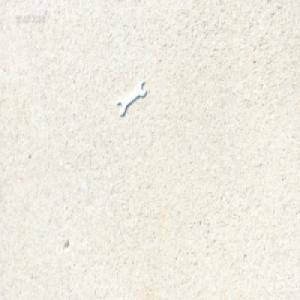Wrench: (116, 80, 146, 115)
